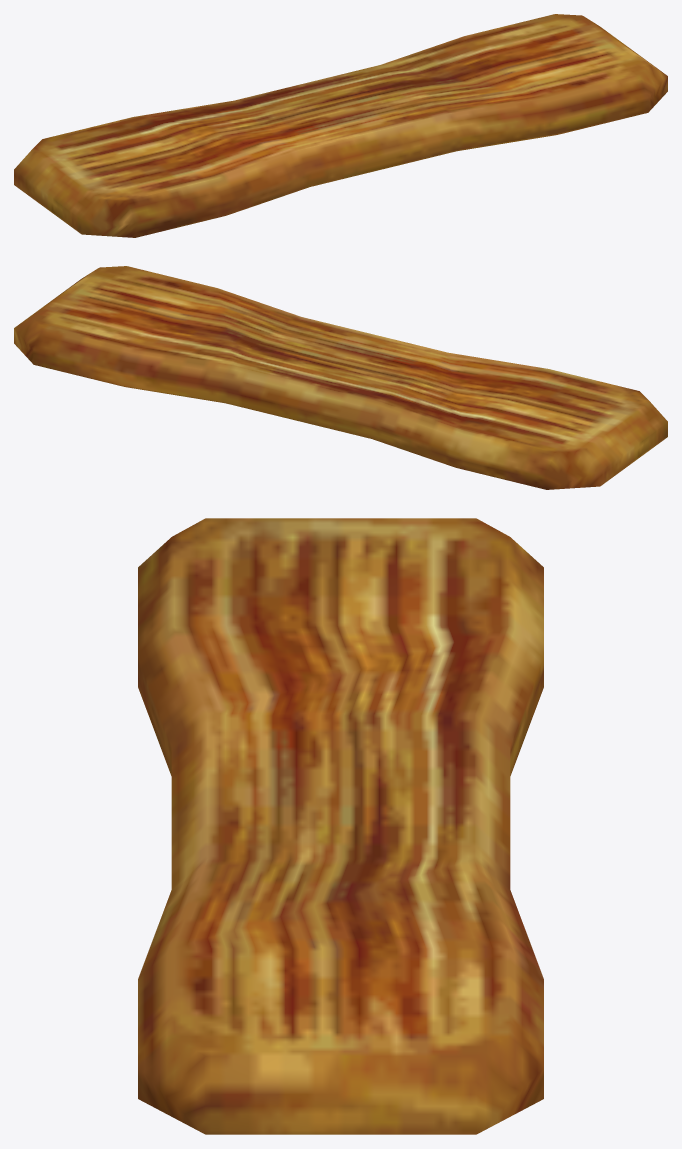
File: a-boar-1-2.glb
The picture shows the model from 3 angles, top to bottom: view 1: azimuth 30°, elevation 25°; view 2: azimuth 150°, elevation 25°; view 3: azimuth 270°, elevation 25°; orthographic projection. The views are drawn at different scales.
Visible parts, largest first — view 1: a_boar_1; view 2: a_boar_1; view 3: a_boar_1.
Boxes of the visible parts, x1=… form: a_boar_1: x1=14, y1=14, x2=667, y2=237; a_boar_1: x1=14, y1=266, x2=667, y2=489; a_boar_1: x1=138, y1=518, x2=543, y2=1134.
Bounding box in the file's own units: 400 × 20 × 120.
1 material, 1 textured.
